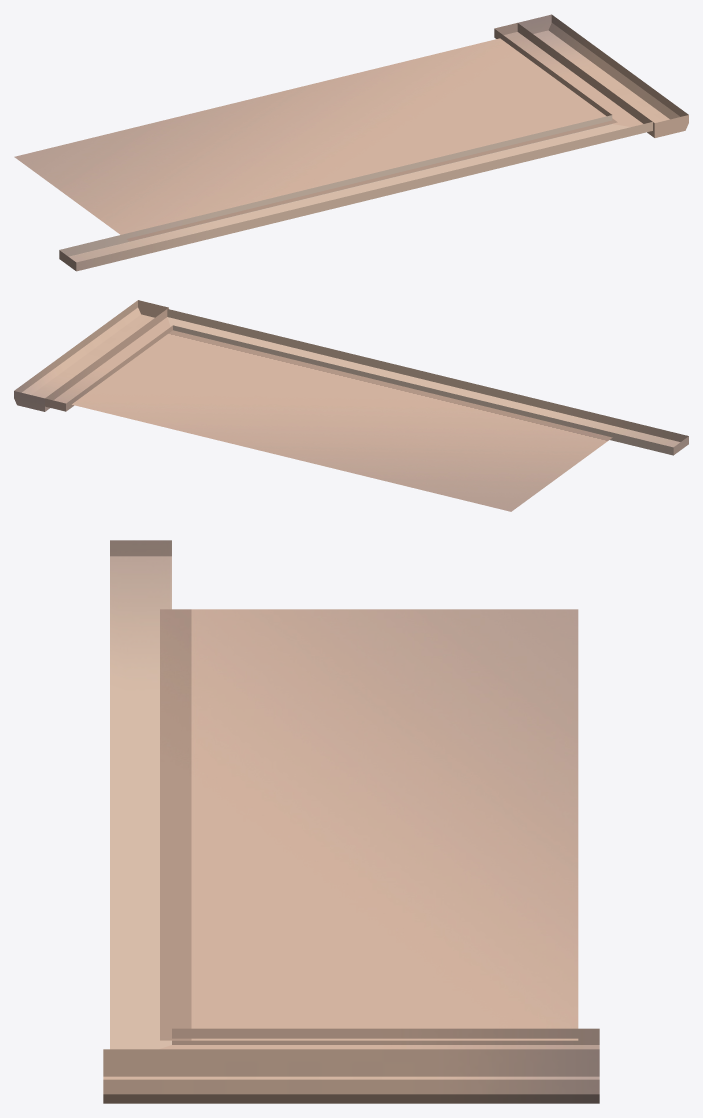
Rendered from Men.FBX.
3 renders of one model, top to bottom at view 1: azimuth 30°, elevation 25°; view 2: azimuth 150°, elevation 25°; view 3: azimuth 270°, elevation 25°, orthographic. The views are drawn at different scales.
Parts seen in each view (by area): view 1: Object030; view 2: Object030; view 3: Object030.
Boxes of the visible parts, <box> form: Object030: <box>14,14,688,271</box>; Object030: <box>14,300,688,511</box>; Object030: <box>103,540,599,1103</box>.
Size of the model in its own units: 67.97 by 1.6 by 26.44.
Materials: 1 (1 with a texture image).
